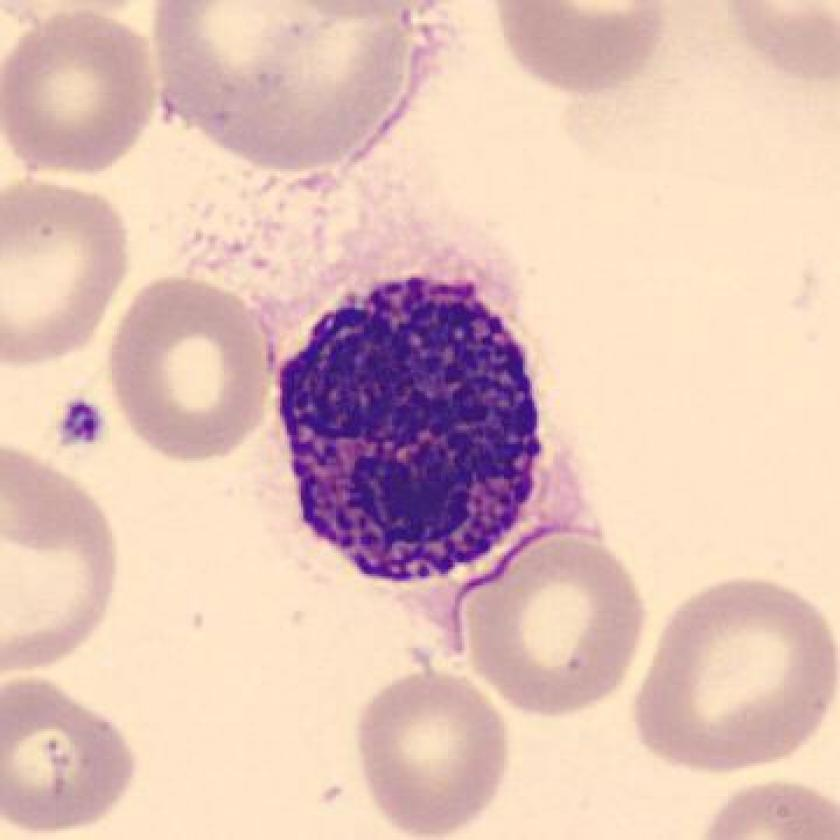basophil: (272, 269, 554, 596)
